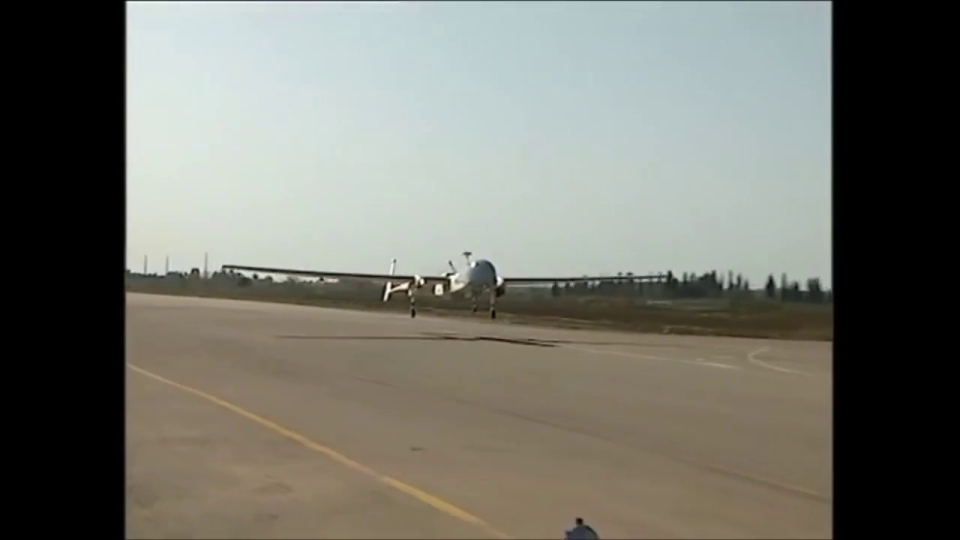military drone: (222, 251, 670, 319)
